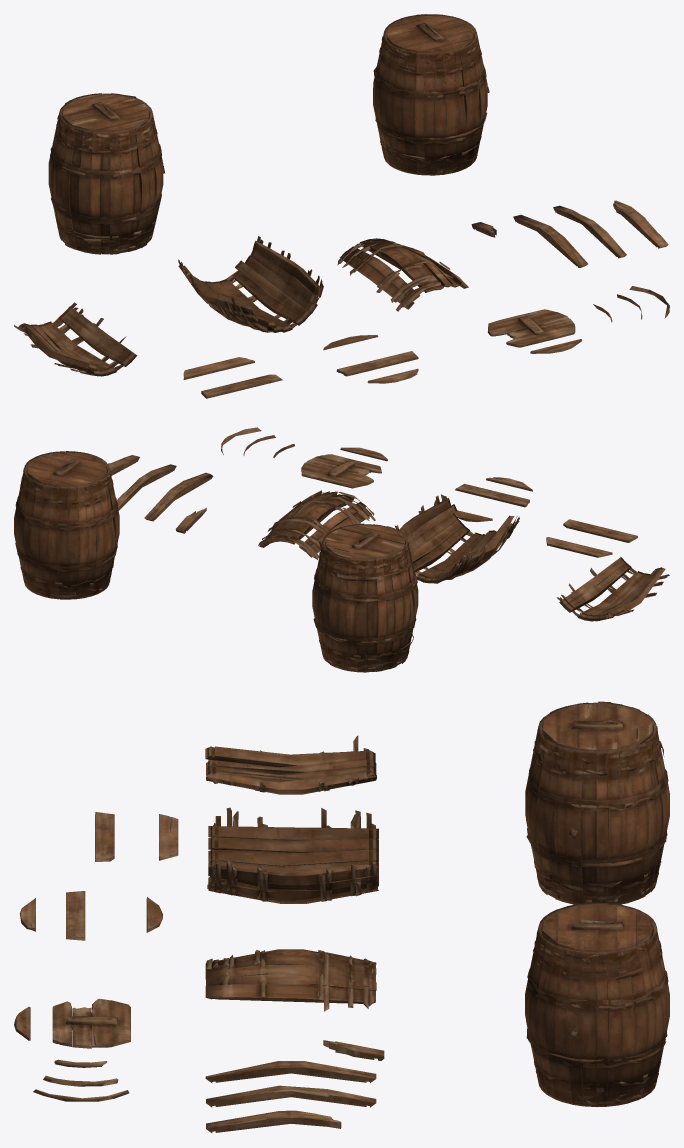
Rendered from wooden_barrels_01.glb.
3 renders of one model, top to bottom at view 1: azimuth 30°, elevation 25°; view 2: azimuth 150°, elevation 25°; view 3: azimuth 270°, elevation 25°, orthographic. The views are drawn at different scales.
Visible parts, largest first — view 1: wooden_barrels_01_barrel02, wooden_barrels_01_barrel01, wooden_barrels_01_piece01, wooden_barrels_01_piece03, wooden_barrels_01_piece02, wooden_barrels_01_piece08, wooden_barrels_01_piece04, wooden_barrels_01_piece05, wooden_barrels_01_piece06, wooden_barrels_01_piece11, wooden_barrels_01_piece14, wooden_barrels_01_piece13; view 2: wooden_barrels_01_barrel02, wooden_barrels_01_barrel01, wooden_barrels_01_piece01, wooden_barrels_01_piece03, wooden_barrels_01_piece02, wooden_barrels_01_piece08, wooden_barrels_01_piece04, wooden_barrels_01_piece14, wooden_barrels_01_piece05, wooden_barrels_01_piece11, wooden_barrels_01_piece13; view 3: wooden_barrels_01_barrel01, wooden_barrels_01_barrel02, wooden_barrels_01_piece01, wooden_barrels_01_piece03, wooden_barrels_01_piece02, wooden_barrels_01_piece08, wooden_barrels_01_piece04, wooden_barrels_01_piece05, wooden_barrels_01_piece06, wooden_barrels_01_piece11, wooden_barrels_01_piece14, wooden_barrels_01_piece13 (+1 smaller).
Boxes of the visible parts, x1,y1,x2,y2 form: wooden_barrels_01_barrel02: (48, 93, 164, 254); wooden_barrels_01_barrel01: (373, 14, 489, 175); wooden_barrels_01_piece01: (178, 236, 323, 332); wooden_barrels_01_piece03: (337, 238, 468, 311); wooden_barrels_01_piece02: (14, 302, 137, 376); wooden_barrels_01_piece08: (488, 309, 575, 347); wooden_barrels_01_piece04: (513, 214, 587, 267); wooden_barrels_01_piece05: (553, 205, 626, 258); wooden_barrels_01_piece06: (613, 200, 668, 248); wooden_barrels_01_piece11: (336, 351, 418, 376); wooden_barrels_01_piece14: (201, 374, 282, 398); wooden_barrels_01_piece13: (183, 357, 254, 379); wooden_barrels_01_barrel02: (312, 523, 418, 672); wooden_barrels_01_barrel01: (14, 451, 119, 599); wooden_barrels_01_piece01: (395, 494, 519, 583); wooden_barrels_01_piece03: (258, 490, 375, 559); wooden_barrels_01_piece02: (556, 557, 669, 621); wooden_barrels_01_piece08: (301, 454, 381, 488); wooden_barrels_01_piece04: (144, 472, 213, 521); wooden_barrels_01_piece14: (563, 519, 637, 542); wooden_barrels_01_piece05: (116, 464, 176, 510); wooden_barrels_01_piece11: (455, 484, 529, 507); wooden_barrels_01_piece13: (546, 537, 612, 557); wooden_barrels_01_barrel01: (525, 902, 669, 1106); wooden_barrels_01_barrel02: (525, 701, 669, 904); wooden_barrels_01_piece01: (207, 807, 378, 903); wooden_barrels_01_piece03: (205, 949, 376, 1011); wooden_barrels_01_piece02: (205, 735, 376, 794); wooden_barrels_01_piece08: (52, 998, 130, 1048); wooden_barrels_01_piece04: (205, 1061, 376, 1082); wooden_barrels_01_piece05: (206, 1085, 376, 1107); wooden_barrels_01_piece06: (206, 1110, 341, 1132); wooden_barrels_01_piece11: (66, 891, 85, 940); wooden_barrels_01_piece14: (95, 812, 114, 861); wooden_barrels_01_piece13: (159, 814, 178, 860).
Bounding box in the file's own units: 4.44 × 0.9522 × 3.34.
3 materials, 3 textured.
